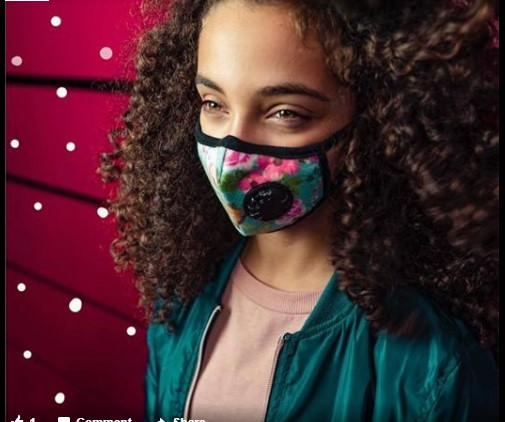face_with_mask: (181, 6, 403, 240)
